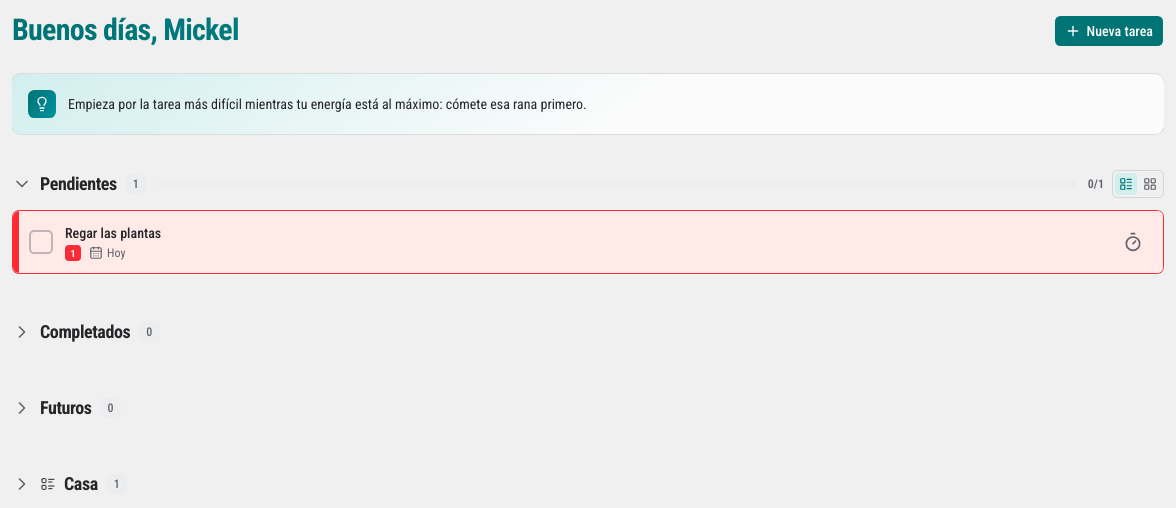
TaskBoard reconcilia con GET /api/tasks/board › tras completar una tarea pide el listado del home y adopta la respuesta
Click the button with test id "status-button" at (41, 242), box x1=29 y1=230 x2=53 y2=254
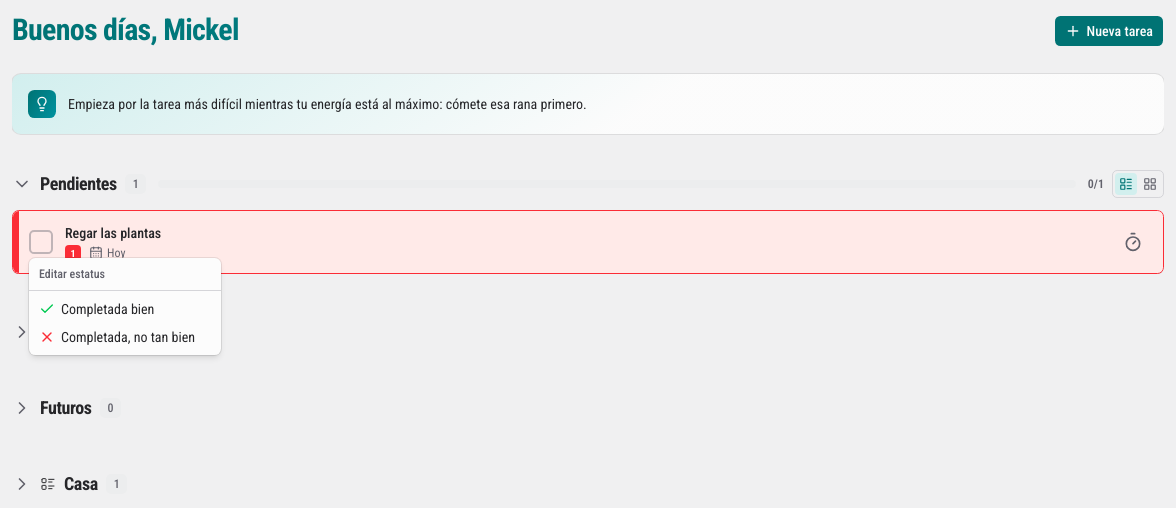
Click the menu item with test id "status-yes" at (97, 309), box x1=39 y1=301 x2=154 y2=317
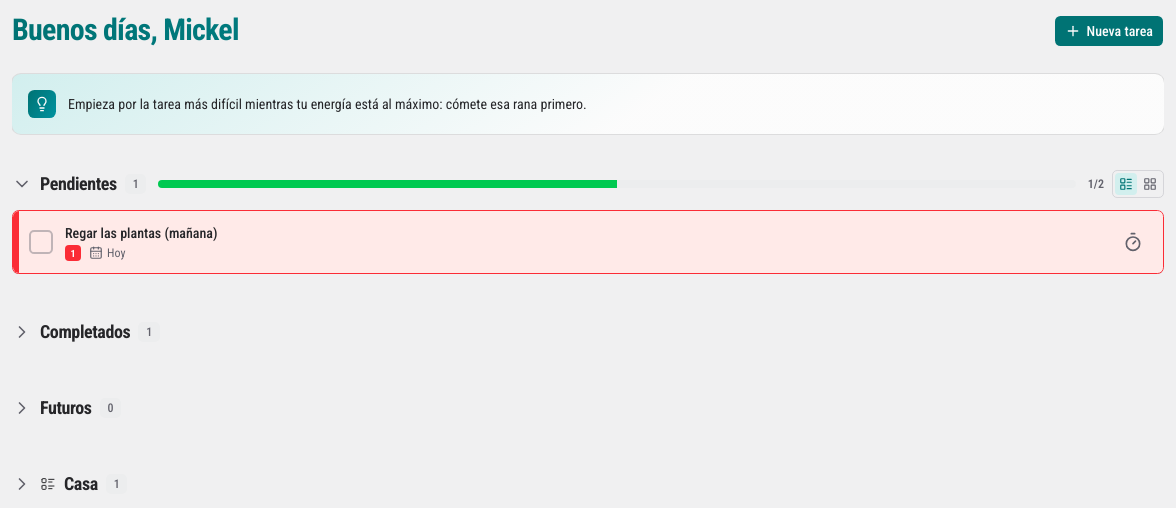
expect the text "Regar las plantas (mañana)" is shown: met, box x1=65 y1=225 x2=218 y2=241
